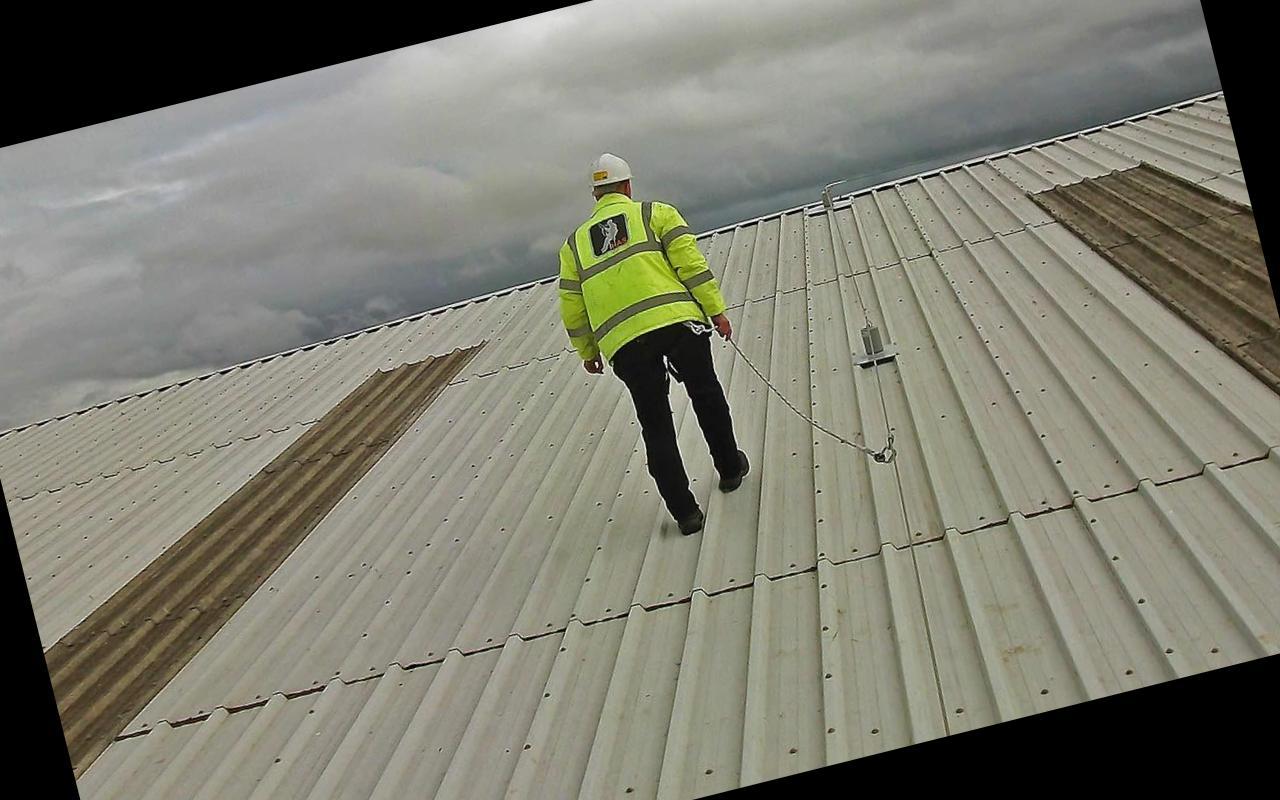Vest: (550, 174, 728, 384)
